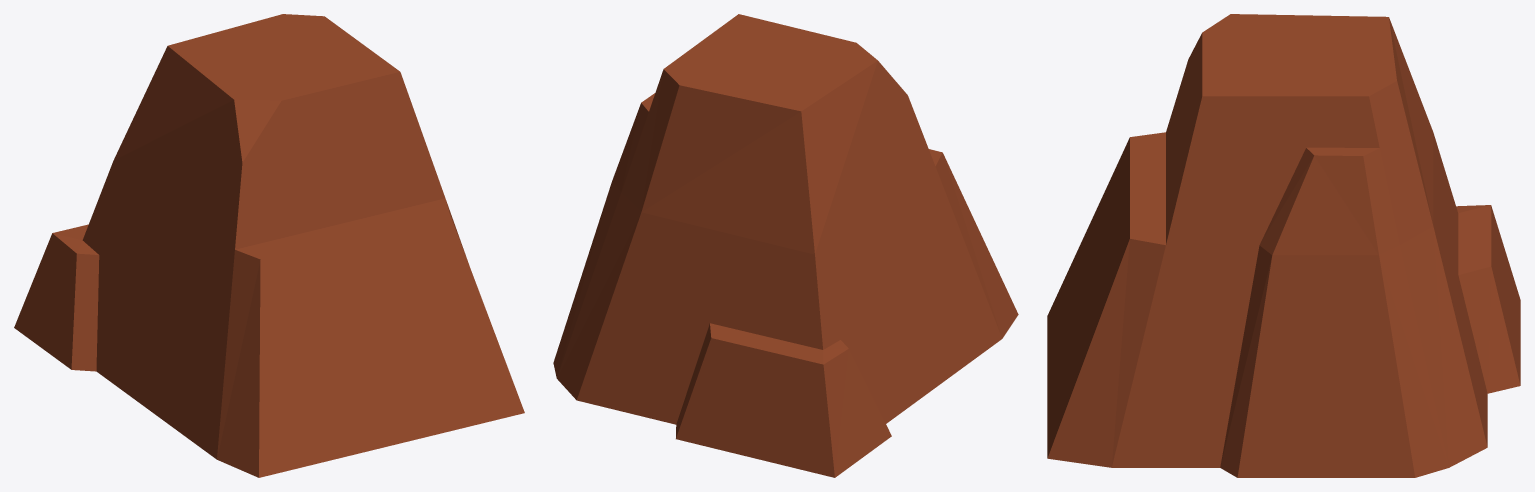
Rendered from ClayB.fbx.
3 renders of one model, left to right at view 1: azimuth 30°, elevation 25°; view 2: azimuth 150°, elevation 25°; view 3: azimuth 270°, elevation 25°, orthographic. The views are drawn at different scales.
Parts seen in each view (by area): view 1: ClayB; view 2: ClayB; view 3: ClayB.
Boxes of the visible parts, left/top/right/bottom form: ClayB: left=14, top=14, right=524, bottom=477; ClayB: left=553, top=14, right=1018, bottom=477; ClayB: left=1047, top=14, right=1520, bottom=477.
Size of the model in its own units: 42.15 by 36.78 by 47.32.
